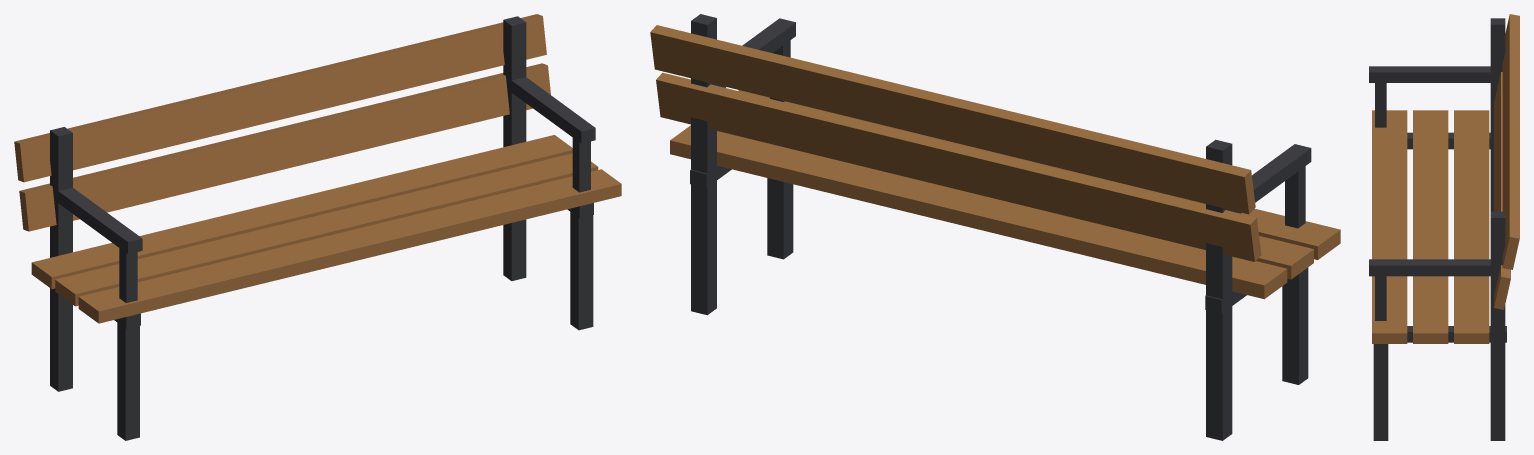
File: prop_bench.glb
The picture shows the model from 3 angles, left to right: view 1: azimuth 30°, elevation 25°; view 2: azimuth 150°, elevation 25°; view 3: azimuth 270°, elevation 25°; orthographic projection. The views are drawn at different scales.
Parts seen in each view (by area): view 1: prop.bench; view 2: prop.bench; view 3: prop.bench.
Boxes of the visible parts, x1,y1,x2,y2 form: prop.bench: [14, 14, 621, 440]; prop.bench: [650, 14, 1340, 440]; prop.bench: [1369, 14, 1519, 440].
Size of the model in its own units: 1.8 by 0.84 by 0.5141.
